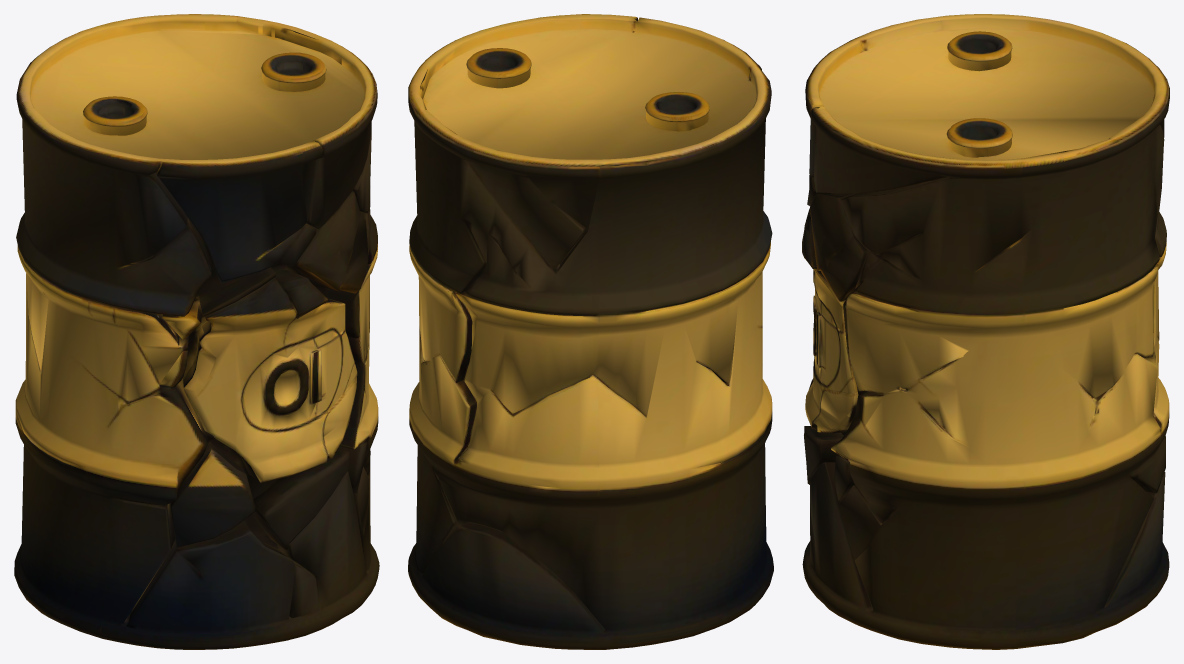
File: smashed_oil_barrel_6a965a03_v3.glb
3 views of the same model, side by side, from view 1: azimuth 30°, elevation 25°; view 2: azimuth 150°, elevation 25°; view 3: azimuth 270°, elevation 25° (orthographic).
Visible parts, largest first — view 1: material; view 2: material; view 3: material.
Part boxes in pixels (box(x1,y1,x2,y2)): material: box(14, 14, 379, 649); material: box(408, 14, 773, 649); material: box(802, 14, 1169, 649).
Size of the model in its own units: 1.28 by 1.9 by 1.29.
Materials: 1 (1 with a texture image).
